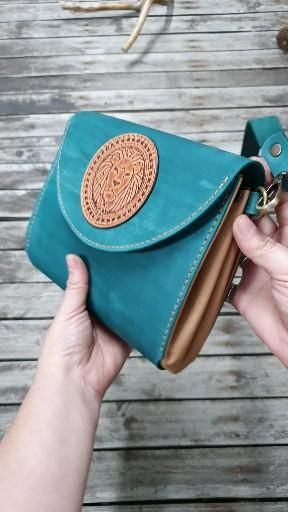cuero: (23, 109, 288, 374)
